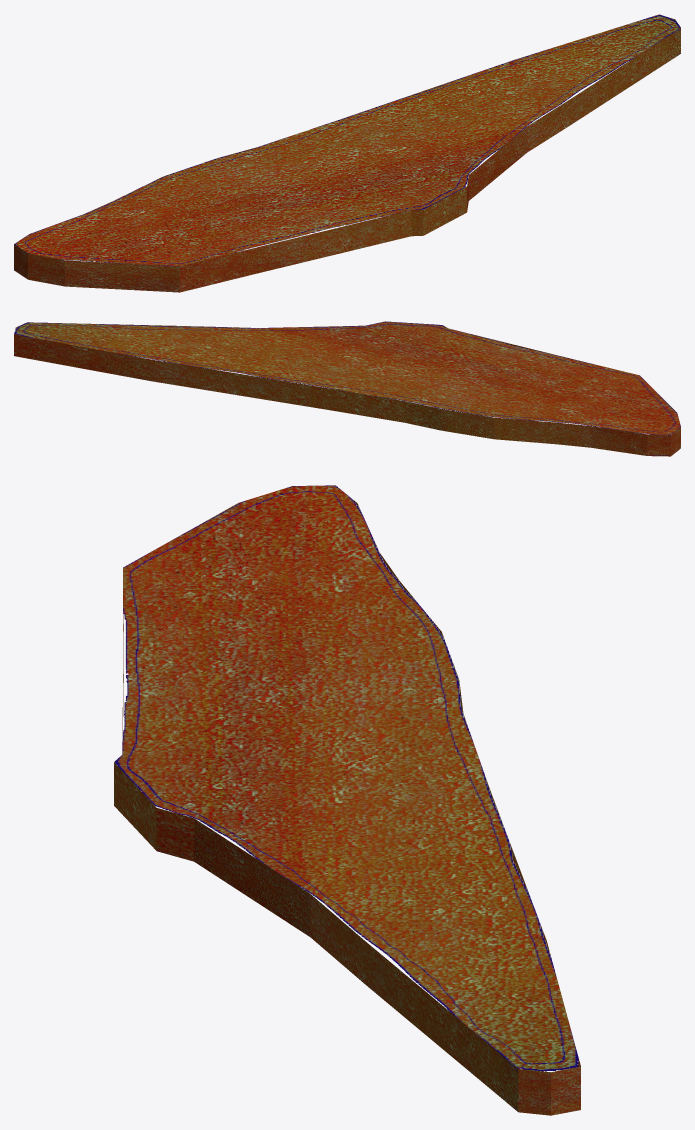
File: brick_02.fbx
3 views of the same model, one above another, from view 1: azimuth 30°, elevation 25°; view 2: azimuth 150°, elevation 25°; view 3: azimuth 270°, elevation 25° (orthographic). The views are drawn at different scales.
Visible parts, largest first — view 1: ｂｒｉｃｋ＿０２; view 2: ｂｒｉｃｋ＿０２; view 3: ｂｒｉｃｋ＿０２.
Boxes of the visible parts, x1,y1,x2,y2 form: ｂｒｉｃｋ＿０２: (14, 14, 680, 292); ｂｒｉｃｋ＿０２: (14, 321, 680, 456); ｂｒｉｃｋ＿０２: (114, 485, 580, 1115).
Bounding box in the file's own units: 475 × 16.4 × 160.
1 material, 1 textured.
